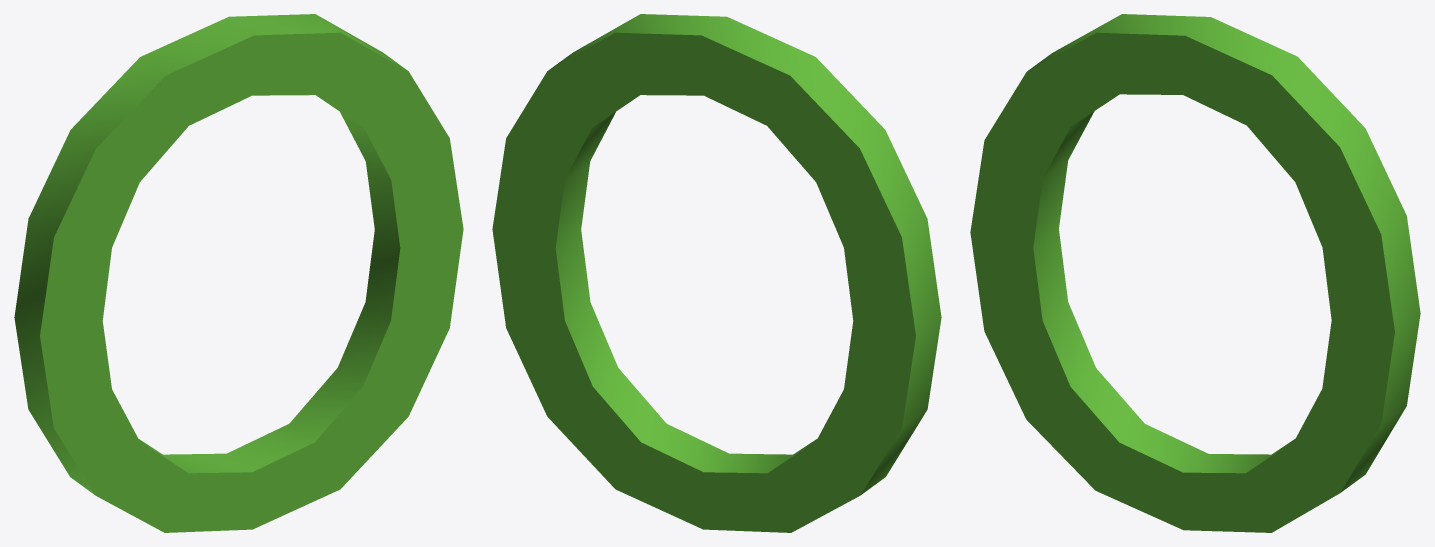
File: letras.obj
3 views of the same model, side by side, from view 1: azimuth 30°, elevation 25°; view 2: azimuth 150°, elevation 25°; view 3: azimuth 330°, elevation 25° (orthographic).
Parts seen in each view (by area): view 1: O; view 2: O; view 3: O.
Part boxes in pixels (left/top/right/bottom): O: left=14, top=14, right=463, bottom=532; O: left=492, top=14, right=941, bottom=532; O: left=970, top=14, right=1420, bottom=532.
Bounding box in the file's own units: 0.958 × 1.07 × 0.1.
